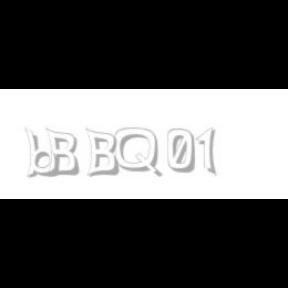0: (168, 128, 198, 174)
1: (195, 128, 217, 176)
B: (45, 128, 79, 178), (85, 128, 119, 178)
Q: (114, 128, 160, 178)
b: (24, 128, 62, 178)
